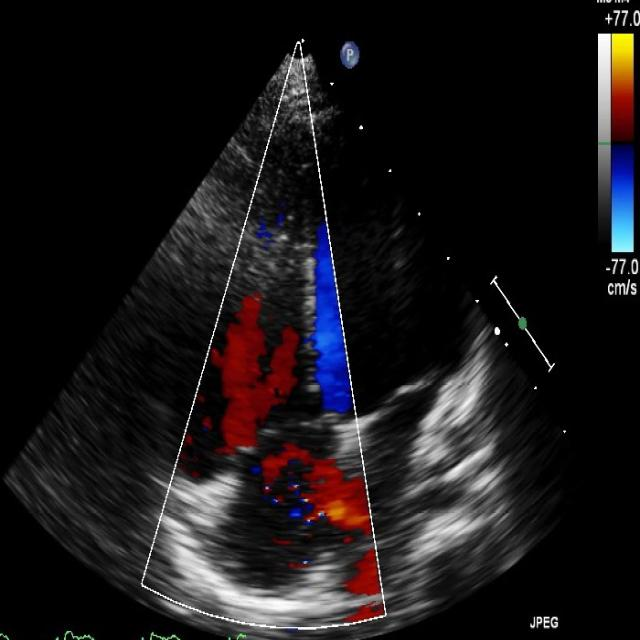ASDType2: (260, 430, 388, 620)
